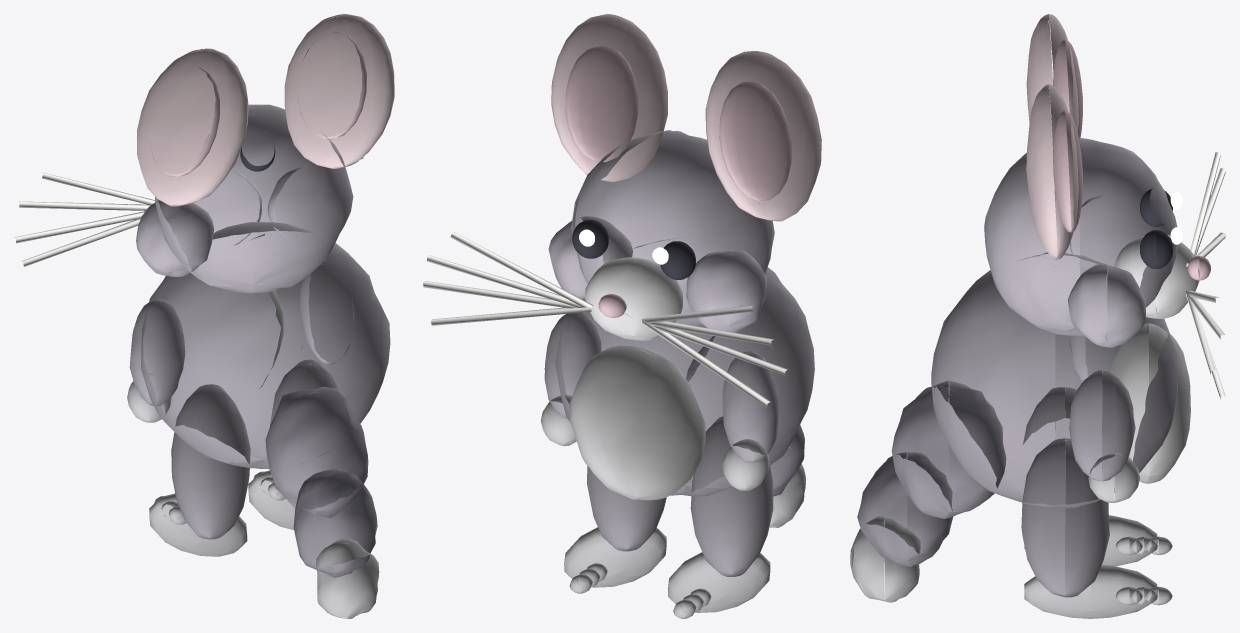
The model's file is player_chinchilla_violet.glb.
3 views of the same model, side by side, from view 1: azimuth 30°, elevation 25°; view 2: azimuth 150°, elevation 25°; view 3: azimuth 270°, elevation 25° (orthographic). The views are drawn at different scales.
Visible parts, largest first — view 1: chinchilla; view 2: chinchilla; view 3: chinchilla.
Boxes of the visible parts, bbox=[...] form: chinchilla: bbox=[14, 14, 394, 618]; chinchilla: bbox=[423, 14, 821, 618]; chinchilla: bbox=[850, 14, 1225, 618].
Size of the model in its own units: 0.8416 by 1.22 by 0.76.
